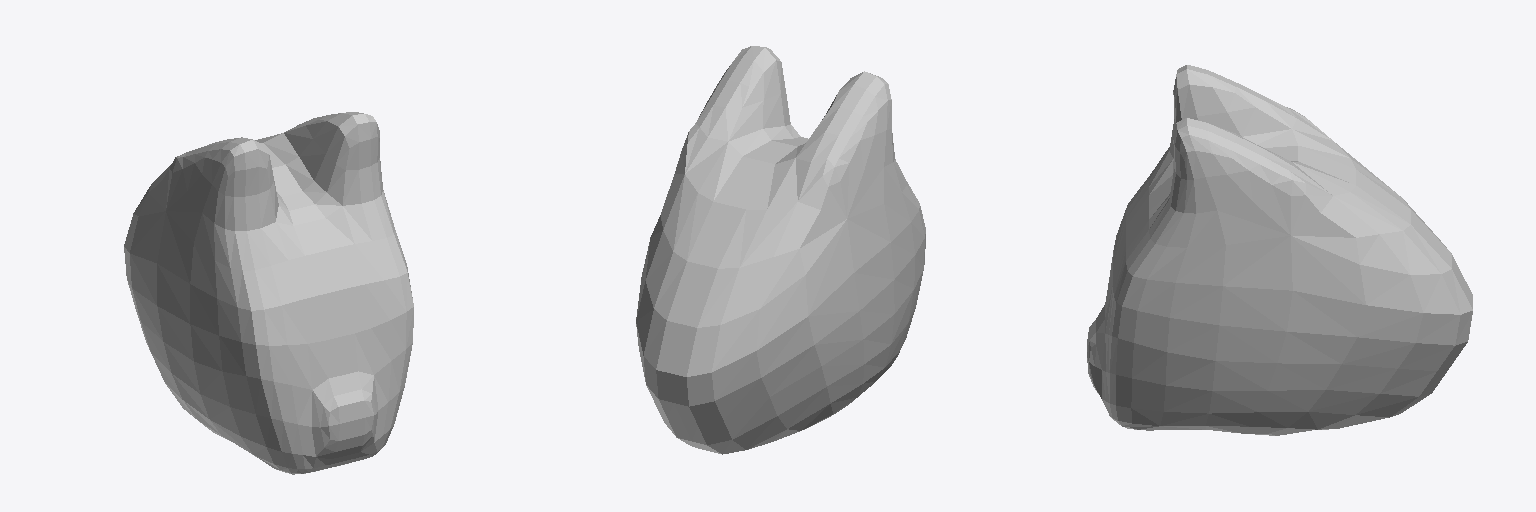
Rendered from Head.obj.
The picture shows the model from 3 angles: view 1: azimuth 30°, elevation 25°; view 2: azimuth 150°, elevation 25°; view 3: azimuth 270°, elevation 25°; orthographic projection.
Parts seen in each view (by area): view 1: Head; view 2: Head; view 3: Head.
Boxes of the visible parts, x1=… form: Head: x1=124, y1=112, x2=413, y2=474; Head: x1=636, y1=46, x2=925, y2=454; Head: x1=1087, y1=65, x2=1472, y2=435.
Size of the model in its own units: 0.5232 by 0.8476 by 0.9118.